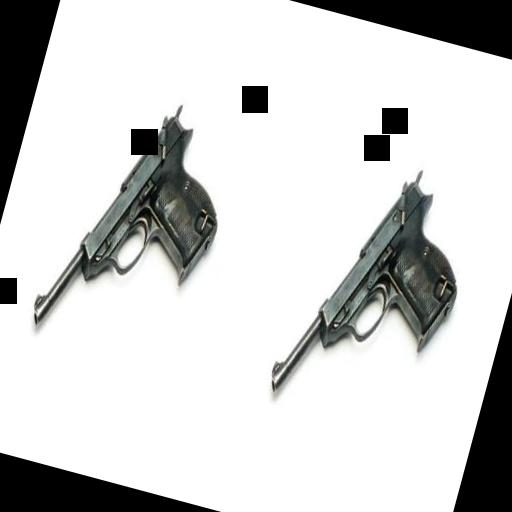Handgun: (19, 62, 249, 386), (259, 133, 487, 453)
